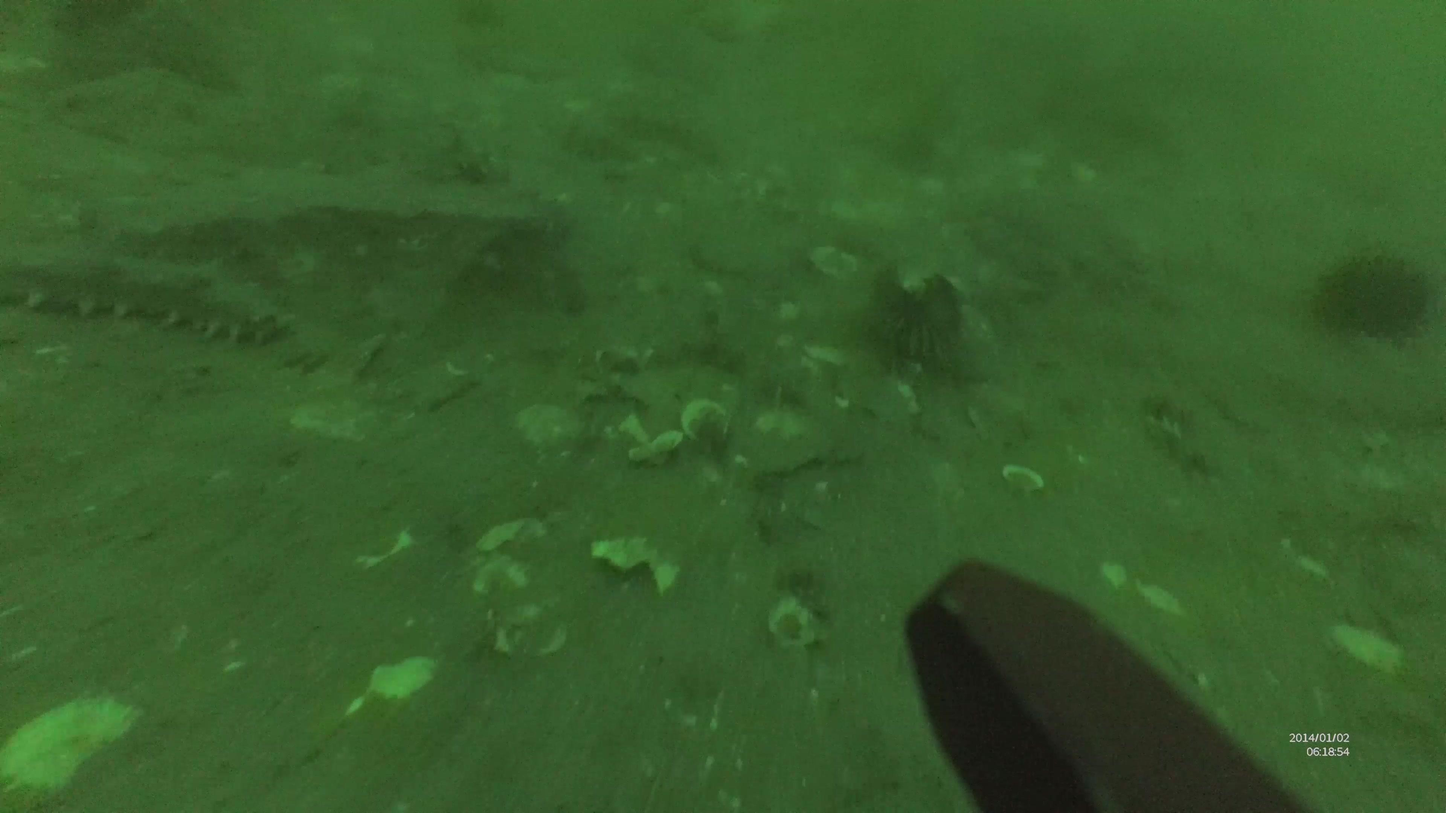echinus: (2, 259, 300, 348)
holothurian: (611, 336, 755, 450), (714, 369, 860, 479)
scallop: (3, 696, 140, 806), (290, 399, 377, 450)
starfish: (1312, 253, 1434, 347)
